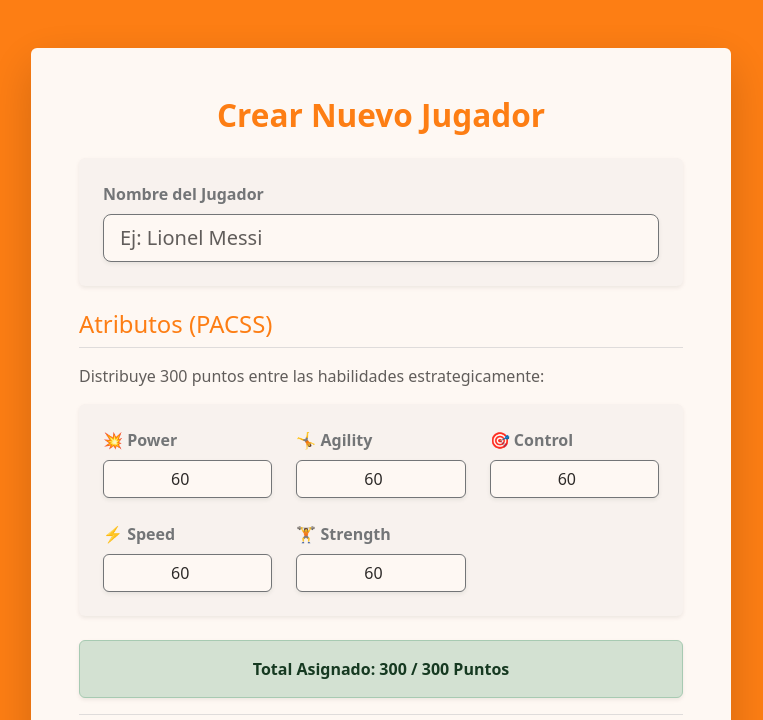
Test: CrearJugador Logic Container › muestra un mensaje de error si la petición HTTP falla
In the field labelled "Nombre del Jugador": (381, 238) [103,214,659,262], type "Depietri"
(page scrolled)
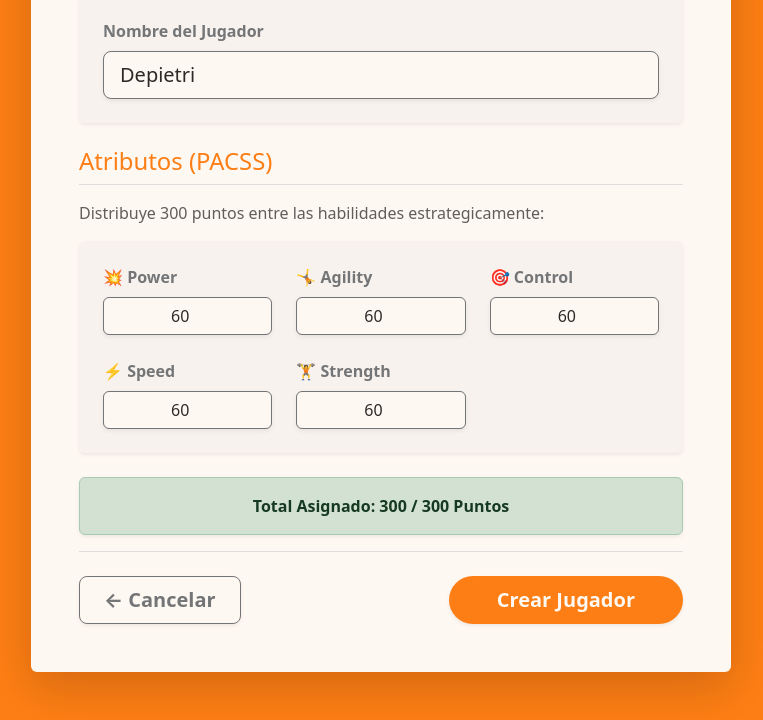
Click the button "Crear Jugador": (566, 600) [449,576,683,624]
(page scrolled)
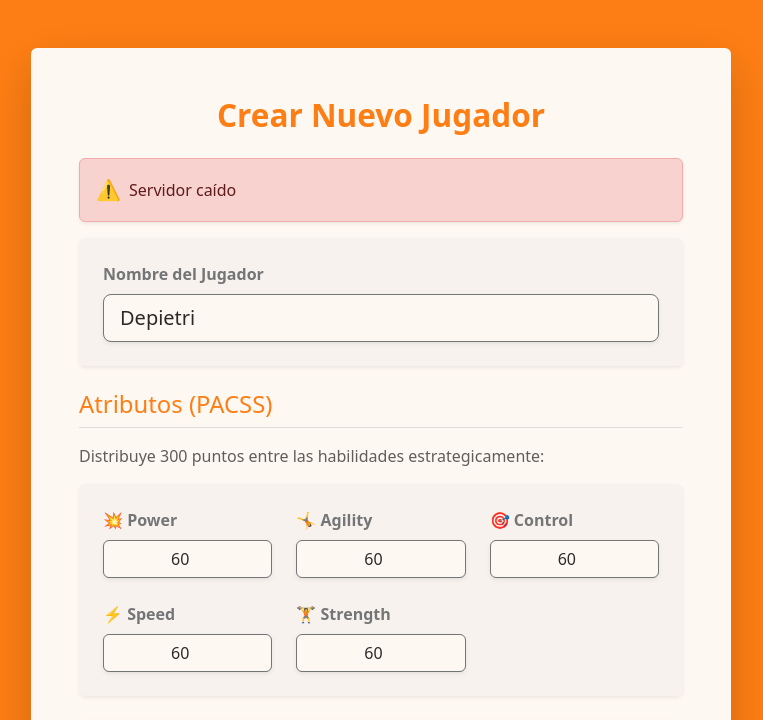
Result: the text "⚠️️ Servidor caído" is shown at [79,158,683,222]
